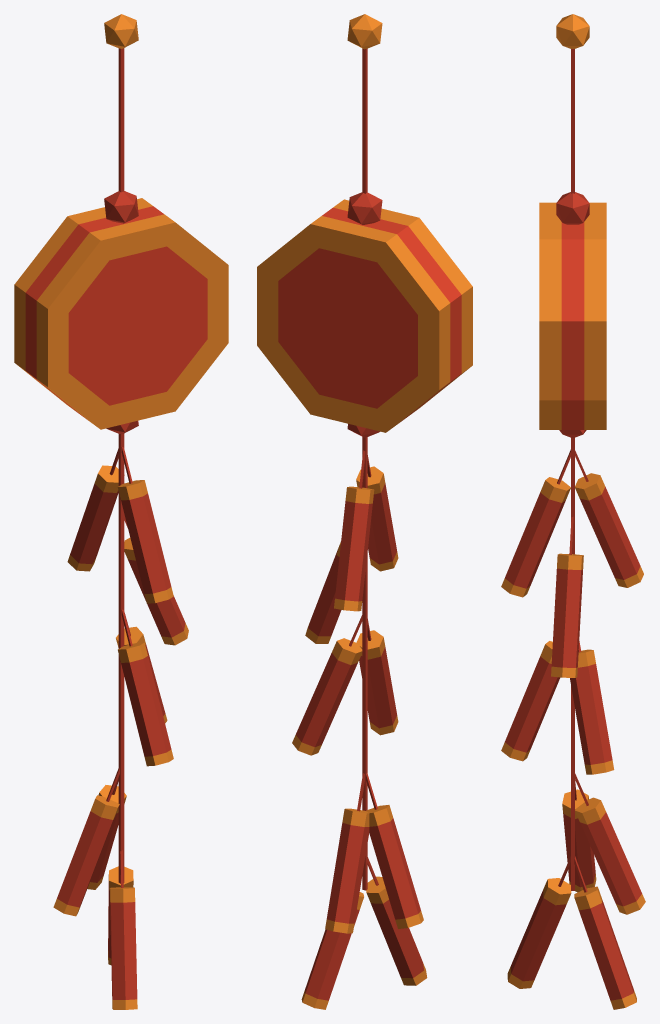
Rendered from ChineseFireworks_02.glb.
The picture shows the model from 3 angles, left to right: view 1: azimuth 30°, elevation 25°; view 2: azimuth 150°, elevation 25°; view 3: azimuth 270°, elevation 25°; orthographic projection.
Parts seen in each view (by area): view 1: ChineseFireworks_02; view 2: ChineseFireworks_02; view 3: ChineseFireworks_02.
Boxes of the visible parts, left/top/right/bottom form: ChineseFireworks_02: left=14, top=14, right=228, bottom=1009; ChineseFireworks_02: left=257, top=14, right=472, bottom=1009; ChineseFireworks_02: left=501, top=14, right=645, bottom=1009.
Bounding box in the file's own units: 0.2253 × 1.16 × 0.1551.
Materials: 1 (1 with a texture image).
